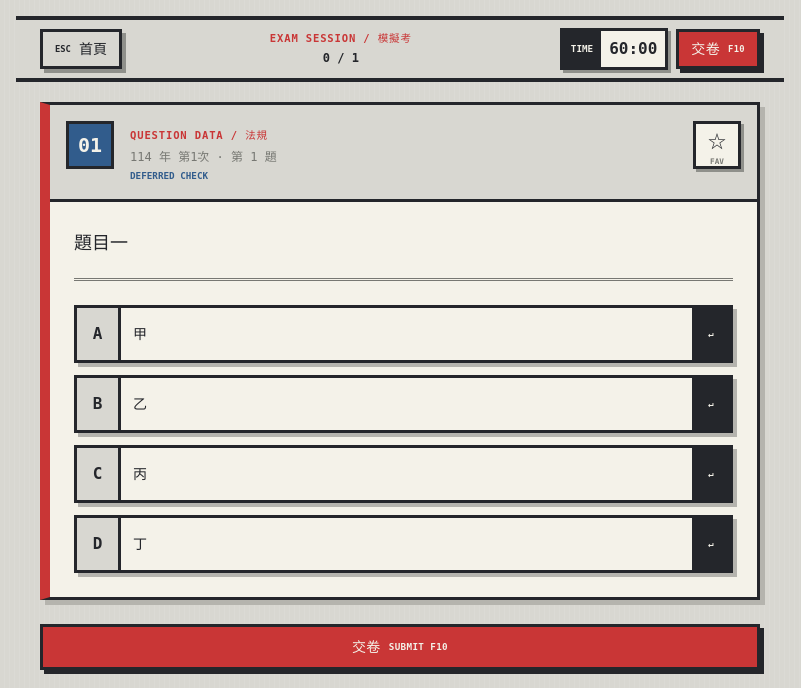
Scenario: ExamRunner › records both question answers and the completed exam result
Click the text "丙" at (140, 473), box [133,464,147,483]
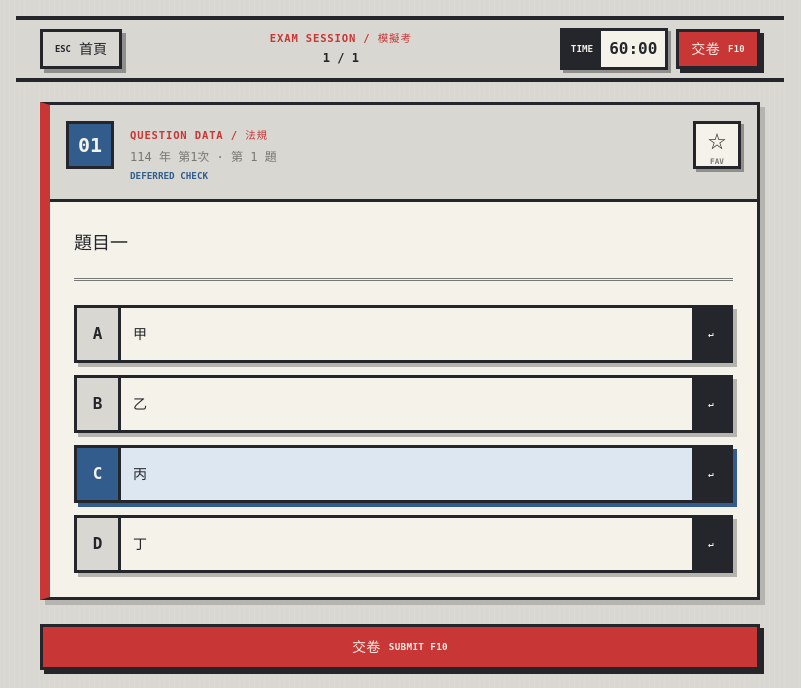
Click the button "交卷 F10" at (718, 49), box [676,29,760,69]
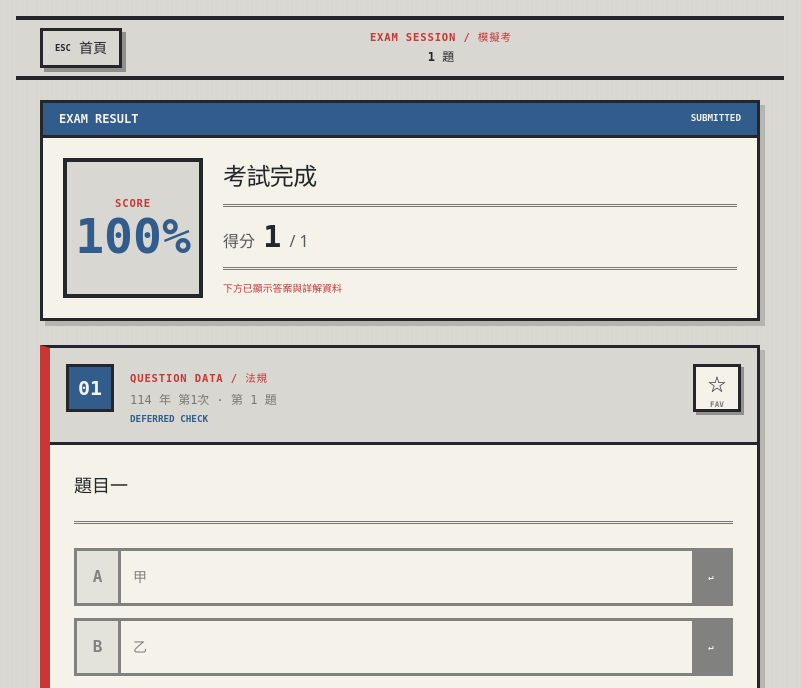
Result: the message named "模擬考成績" shows "100%" at [40,100,760,321]
